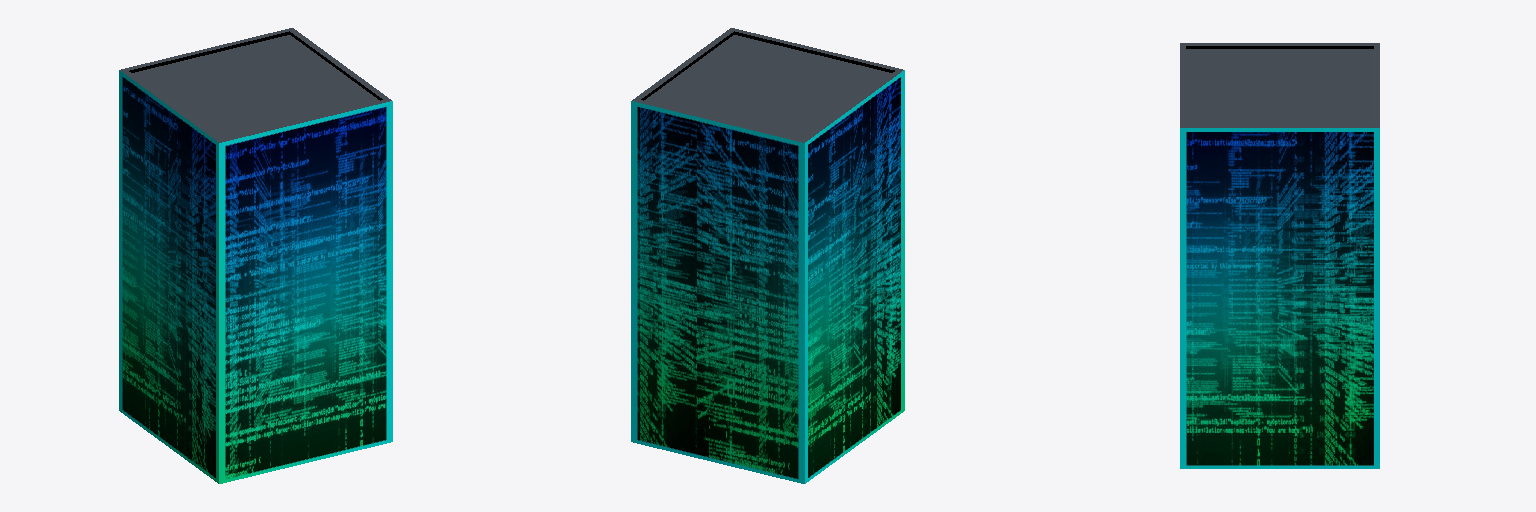
3 renders of one model, left to right at view 1: azimuth 30°, elevation 25°; view 2: azimuth 150°, elevation 25°; view 3: azimuth 270°, elevation 25°, orthographic.
Visible parts, largest first — view 1: Cube.001; view 2: Cube.001; view 3: Cube.001.
Boxes of the visible parts, box(x1,y1,x2,y2) form: Cube.001: box(119, 28, 392, 483); Cube.001: box(631, 28, 904, 483); Cube.001: box(1180, 43, 1379, 468).
Size of the model in its own units: 1.26 by 2.38 by 1.26.
3 materials, 1 textured.